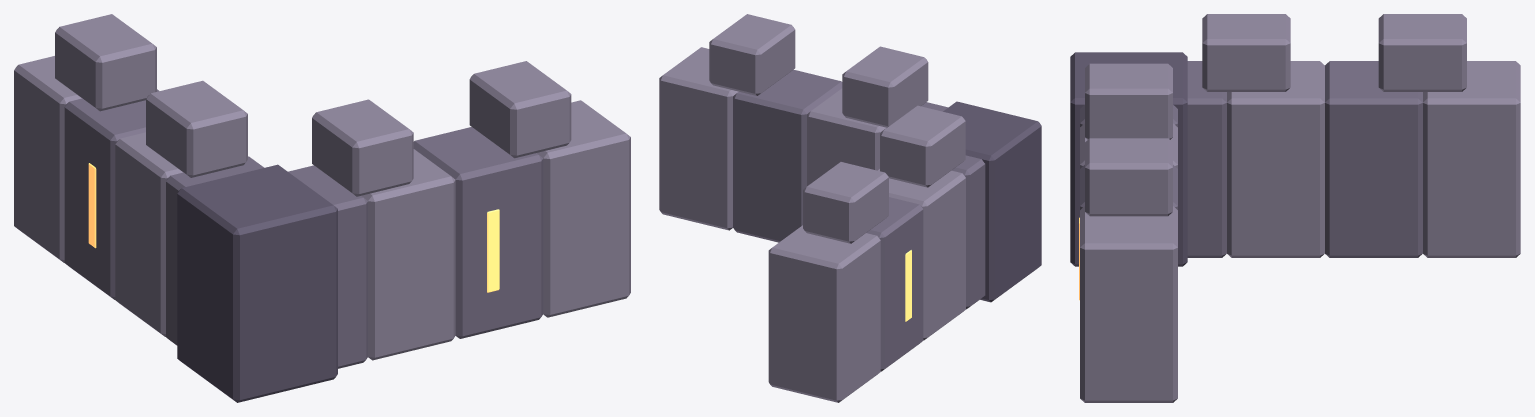
File: ember_parapet_corner.glb
3 views of the same model, side by side, from view 1: azimuth 30°, elevation 25°; view 2: azimuth 150°, elevation 25°; view 3: azimuth 270°, elevation 25° (orthographic). The views are drawn at different scales.
Parts seen in each view (by area): view 1: ember_parapet_corner.001; view 2: ember_parapet_corner.001; view 3: ember_parapet_corner.001.
Part boxes in pixels (x1,y1,x2,y2): ember_parapet_corner.001: (14, 14, 630, 402); ember_parapet_corner.001: (659, 14, 1041, 402); ember_parapet_corner.001: (1070, 14, 1520, 402).
Bounding box in the file's own units: 4.6 × 2.45 × 4.6.
